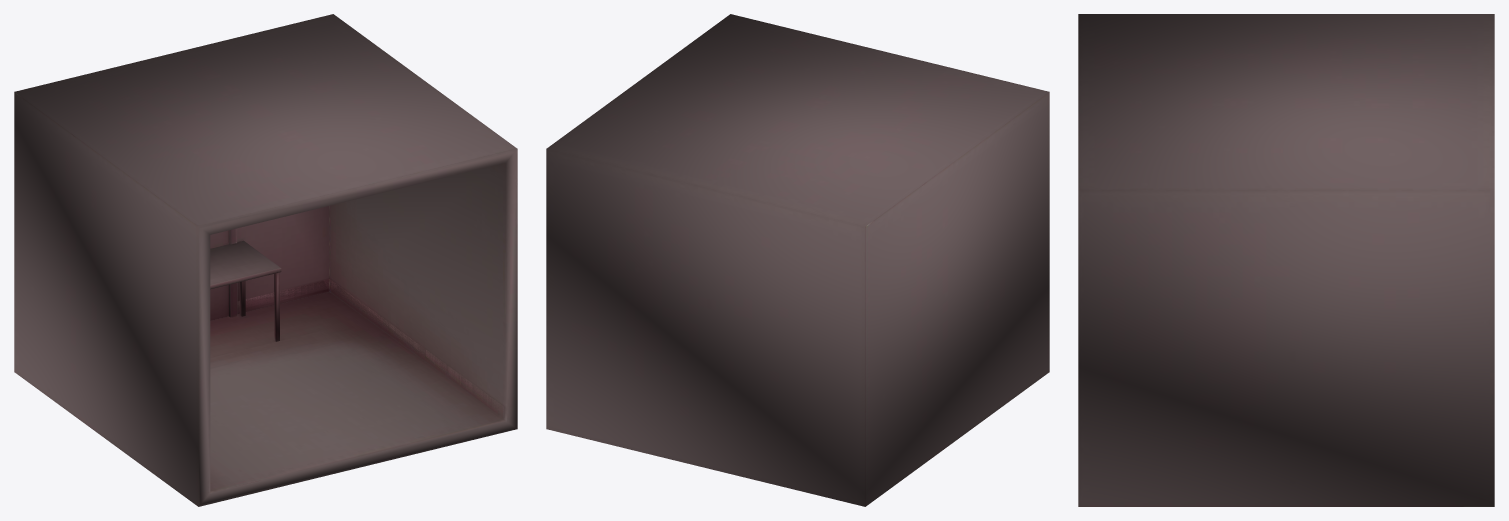
Rendered from original_glb.glb.
3 renders of one model, left to right at view 1: azimuth 30°, elevation 25°; view 2: azimuth 150°, elevation 25°; view 3: azimuth 270°, elevation 25°, orthographic. The views are drawn at different scales.
Parts seen in each view (by area): view 1: Apartment corridor; view 2: Apartment corridor; view 3: Apartment corridor.
Boxes of the visible parts, left/top/right/bottom form: Apartment corridor: left=14, top=14, right=517, bottom=506; Apartment corridor: left=546, top=14, right=1049, bottom=506; Apartment corridor: left=1078, top=14, right=1494, bottom=506.
Size of the model in its own units: 0.998 by 0.8379 by 0.998.
1 material, 1 textured.
